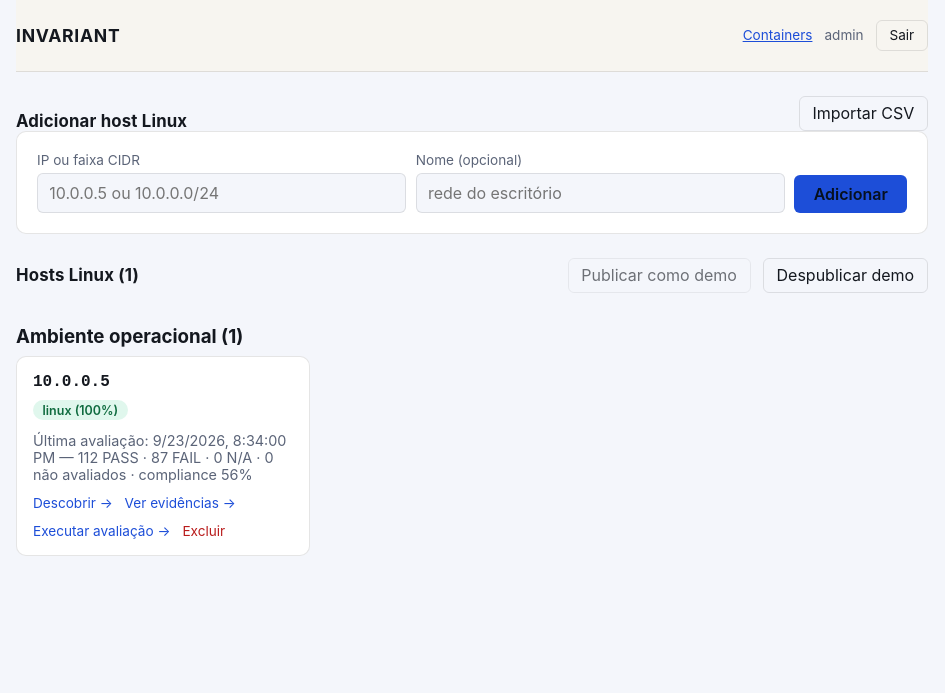
Test case: Endpoints -- resumo persistido da última avaliação › uma avaliação que falha mostra "Última tentativa" sem apagar uma "Última avaliação" anterior
expect the button "Importar CSV" is shown: met, box top-left (799, 96), bottom-right (928, 131)
Click the button "Executar avaliação →" at x=102, y=531, box top-left (33, 523), bottom-right (170, 539)
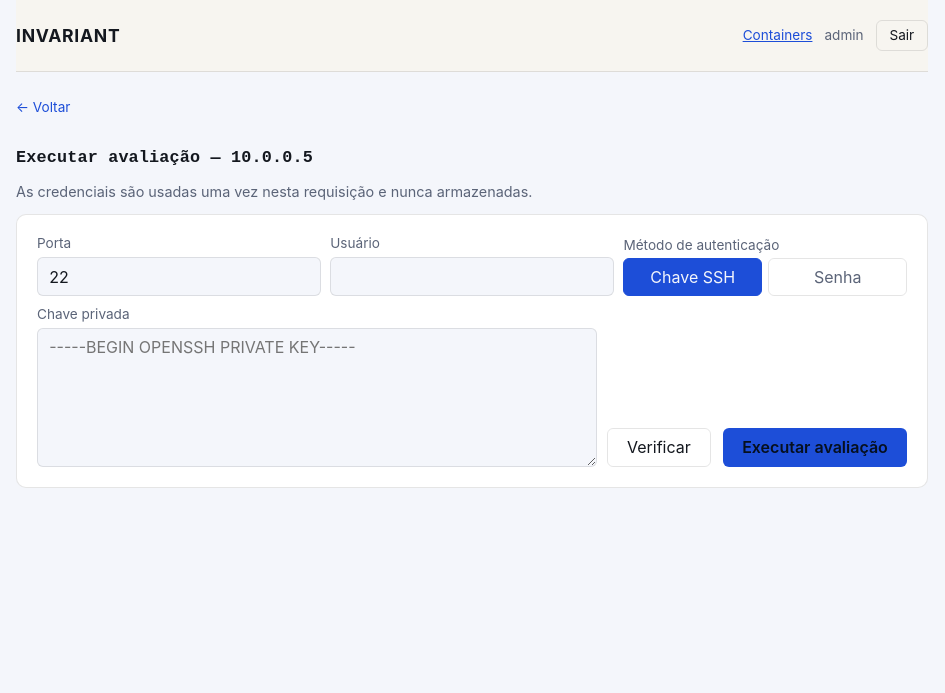
expect the field labelled "Usuário" is shown: met
Type "demo-lab" into the field labelled "Usuário" at x=472, y=277, box top-left (330, 257), bottom-right (614, 296)
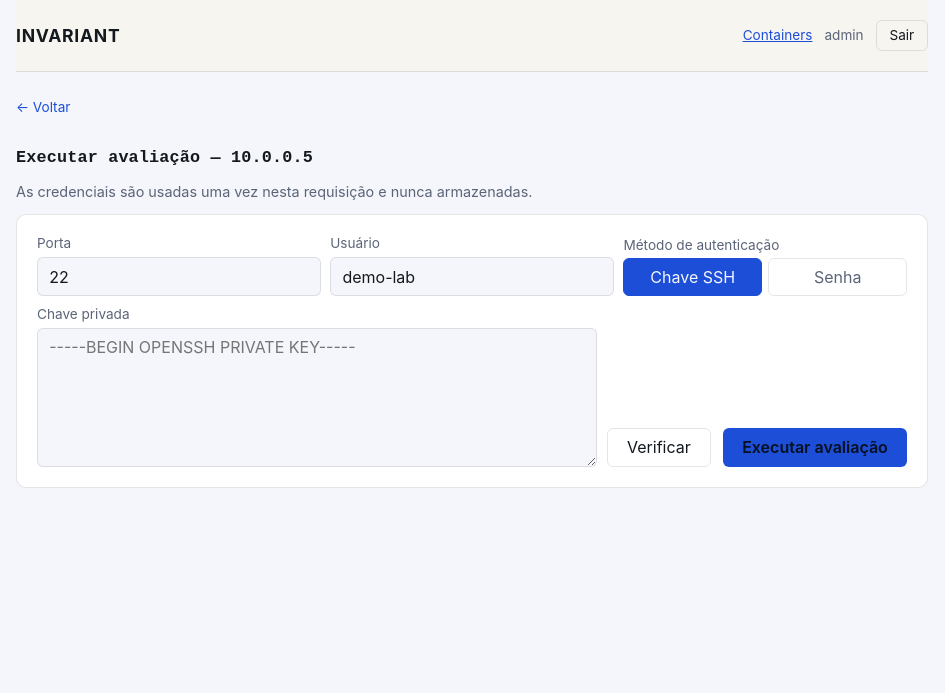
Click the button "Senha" at x=838, y=277, box top-left (768, 258), bottom-right (907, 296)
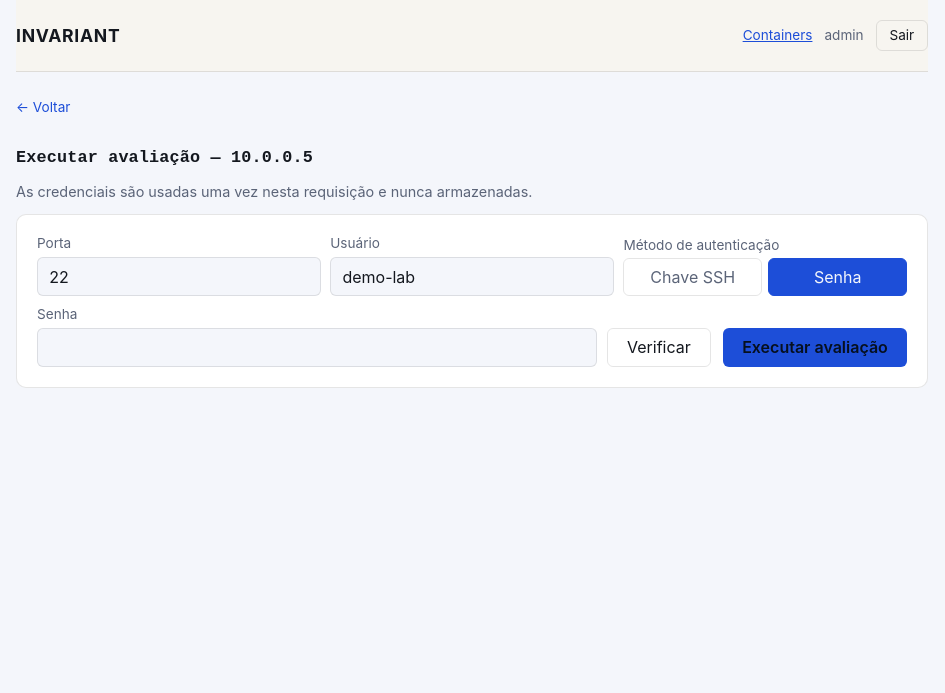
Type "wrong" into the password field labelled "Senha" at x=317, y=347, box top-left (37, 328), bottom-right (597, 367)
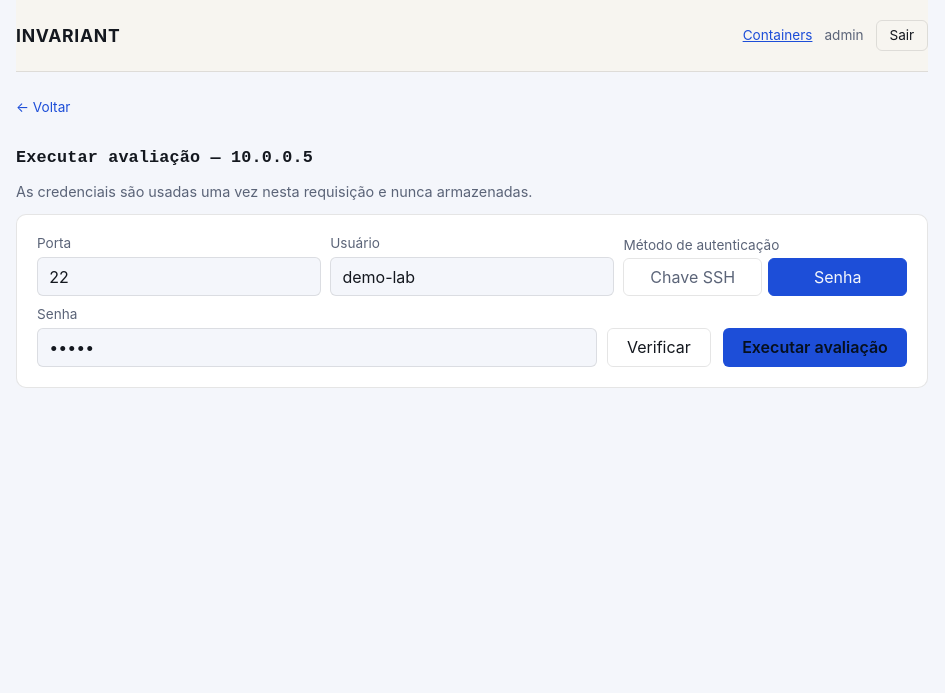
Click the button "Executar avaliação" at x=815, y=347, box top-left (723, 328), bottom-right (907, 367)
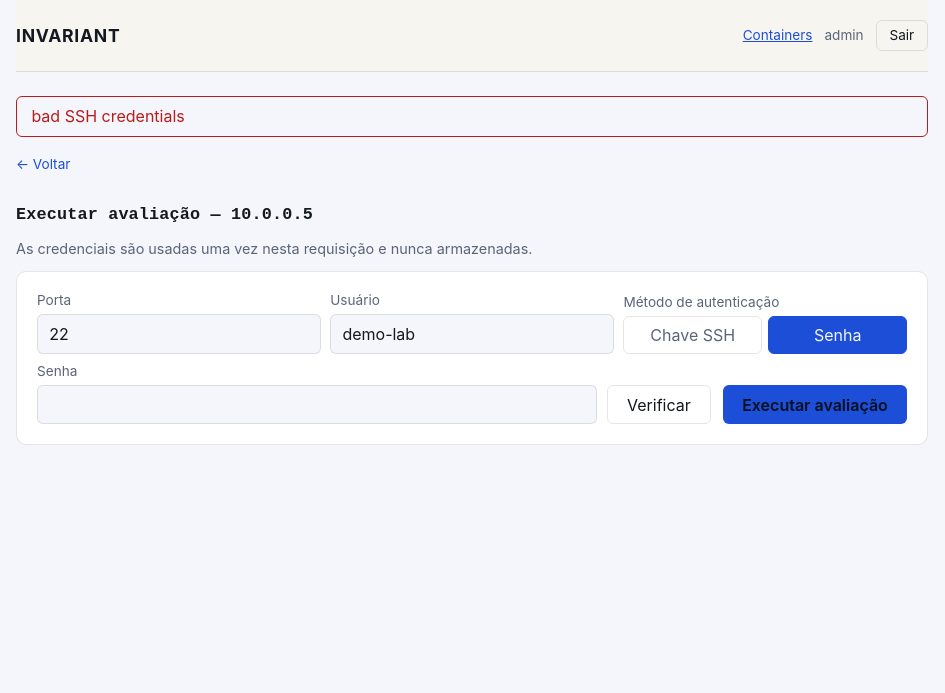
expect the text "bad SSH credentials" is shown: met, box top-left (16, 96), bottom-right (928, 137)
Click the button "← Voltar" at x=43, y=164, box top-left (16, 156), bottom-right (70, 172)
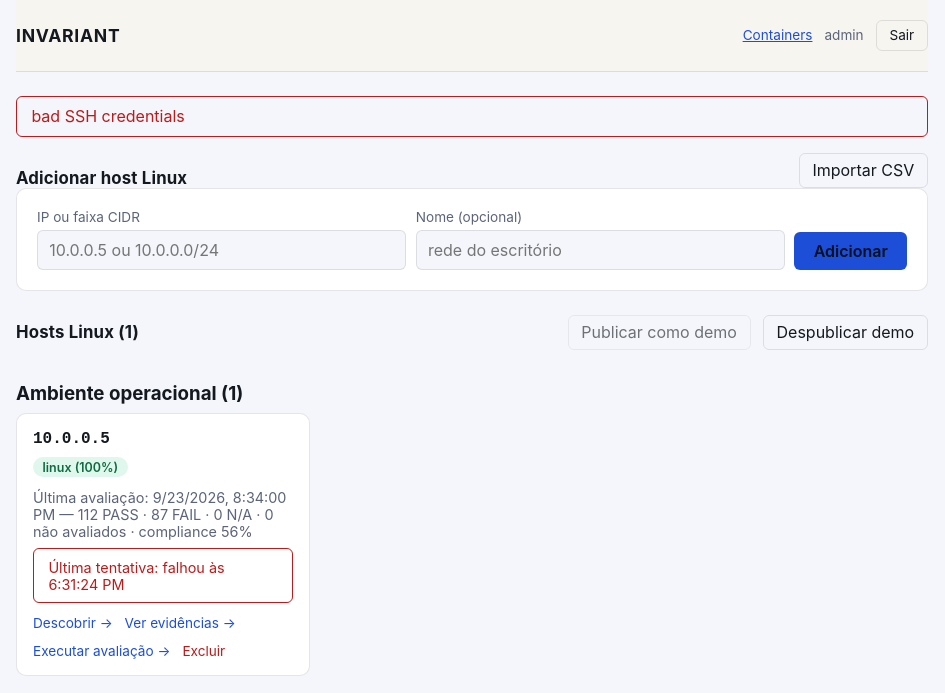
expect the text "Última tentativa: falhou às 6:31:24 PM" is shown: met, box top-left (33, 548), bottom-right (293, 603)
expect the text "Última avaliação" is shown: met, box top-left (33, 489), bottom-right (153, 506)
expect the text "112 PASS" is shown: met, box top-left (33, 489), bottom-right (293, 540)
